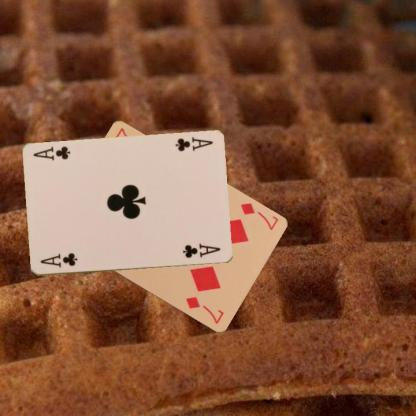7d: (238, 200, 279, 232)
Ac: (172, 134, 214, 152), (38, 251, 78, 269)
